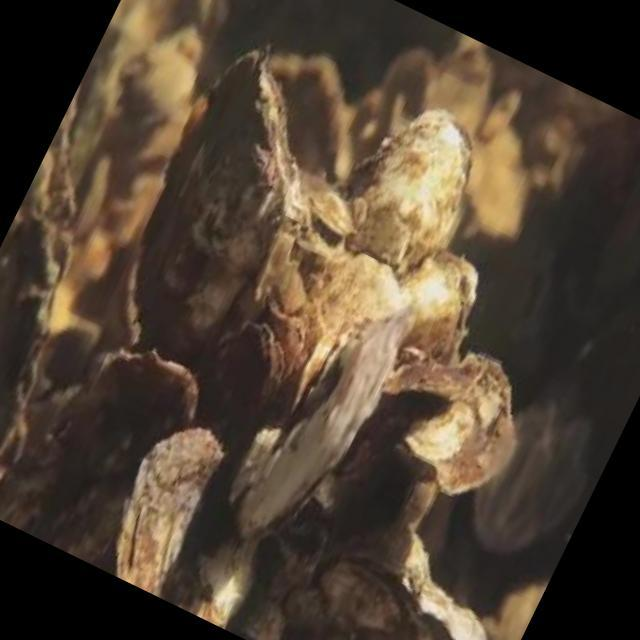Oyster- Indeterminate: (134, 46, 307, 364), (234, 313, 397, 546), (0, 86, 78, 481), (339, 106, 472, 278), (116, 428, 229, 606), (384, 351, 518, 494), (76, 353, 199, 476), (300, 248, 404, 352), (272, 56, 352, 184), (318, 555, 430, 640), (464, 127, 528, 240), (429, 54, 490, 134), (378, 49, 434, 125)
Oyster-Closed: (197, 322, 286, 454), (397, 248, 477, 358), (289, 327, 353, 421), (200, 530, 259, 626), (414, 584, 488, 640), (382, 355, 468, 402), (299, 168, 355, 237)
Oyster-Open: (510, 256, 554, 338)
